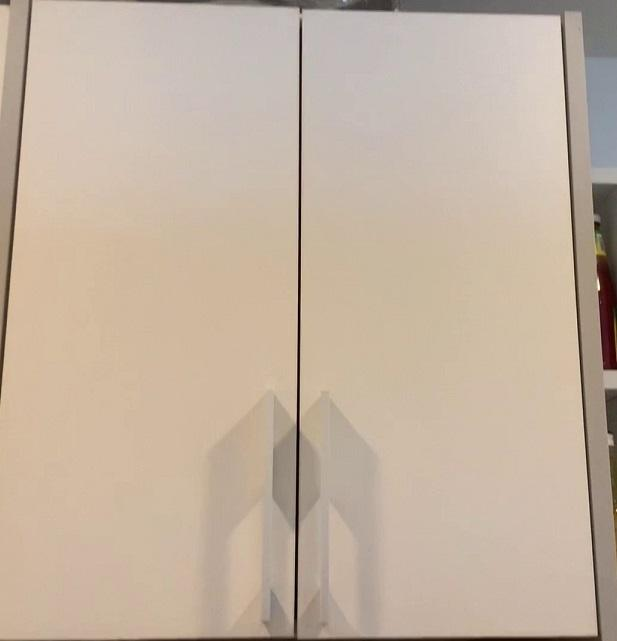cabinet_door: (1, 0, 299, 641), (295, 15, 571, 641)
handle: (311, 385, 339, 636), (258, 381, 281, 631)
